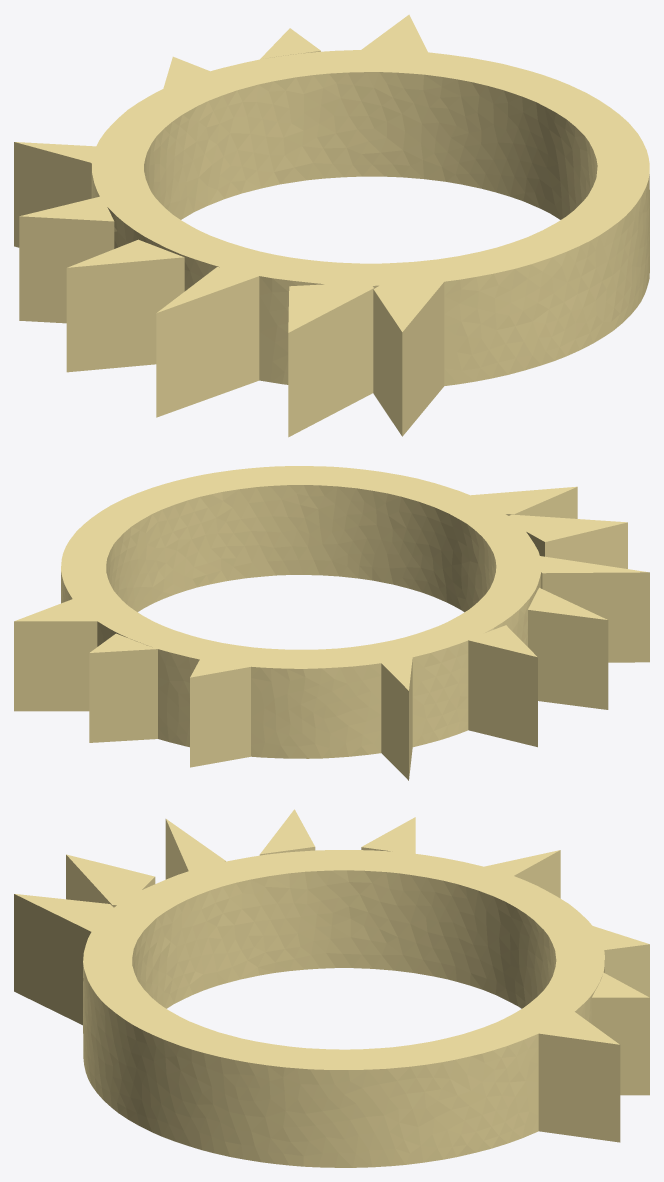
The model's file is input.gltf.
3 views of the same model, one above another, from view 1: azimuth 30°, elevation 25°; view 2: azimuth 150°, elevation 25°; view 3: azimuth 270°, elevation 25° (orthographic). The views are drawn at different scales.
Visible parts, largest first — view 1: Renderer Node; view 2: Renderer Node; view 3: Renderer Node.
Boxes of the visible parts, x1=… form: Renderer Node: x1=14, y1=14, x2=649, y2=437; Renderer Node: x1=14, y1=466, x2=649, y2=780; Renderer Node: x1=14, y1=809, x2=649, y2=1167.
Bounding box in the file's own units: 1.3 × 0.2266 × 1.34.
